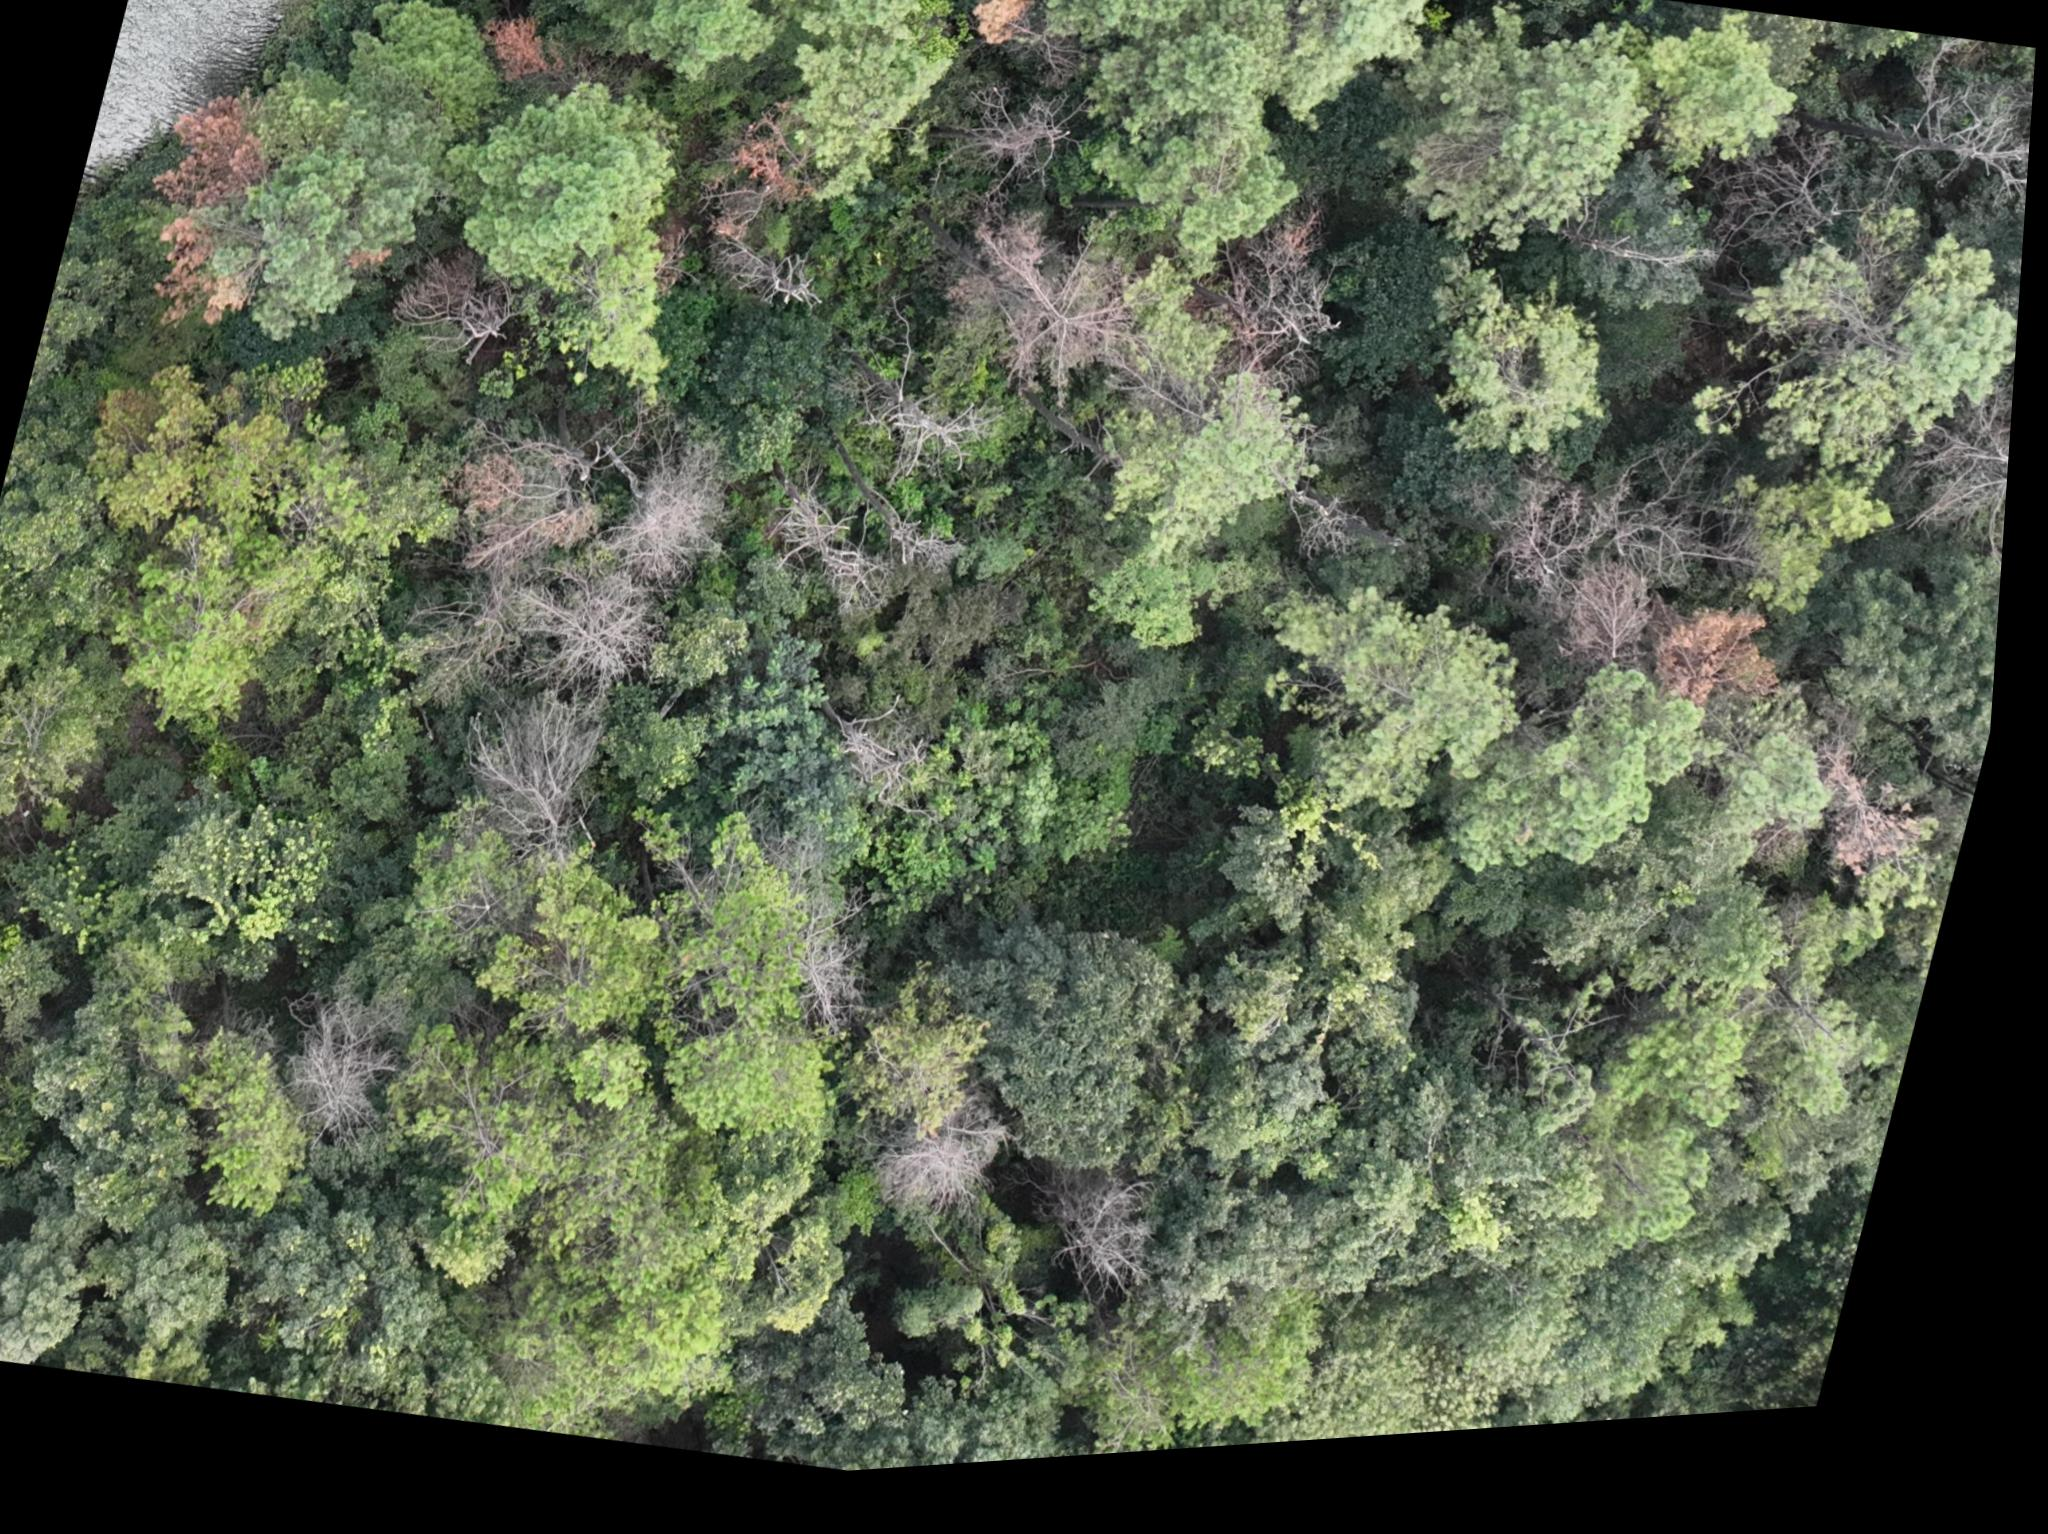dead: (425, 424, 736, 725), (1476, 475, 1702, 690), (946, 232, 1155, 413), (446, 701, 625, 878), (1210, 221, 1365, 404), (759, 501, 946, 630), (284, 1005, 427, 1160), (925, 89, 1080, 222), (885, 1115, 1030, 1239), (387, 247, 529, 369), (1047, 1176, 1179, 1305), (860, 396, 986, 488), (719, 232, 836, 324)
heavy: (119, 87, 277, 338), (1658, 617, 1810, 752), (471, 8, 583, 106), (727, 116, 827, 221), (964, 0, 1041, 68)
